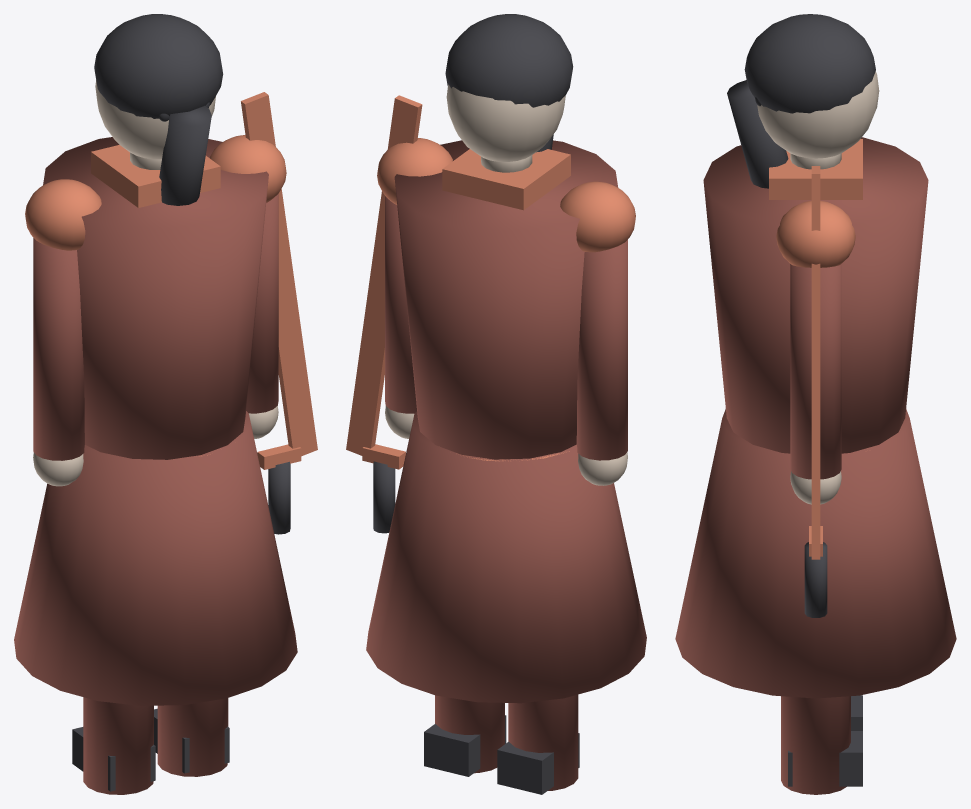
Rendered from xiao-lie.glb.
3 views of the same model, side by side, from view 1: azimuth 30°, elevation 25°; view 2: azimuth 150°, elevation 25°; view 3: azimuth 270°, elevation 25° (orthographic).
Parts seen in each view (by area): view 1: xiao-lie_robe, xiao-lie_torso, xiao-lie_hair, xiao-lie_arm-0.235, xiao-lie_blade, xiao-lie_leg-0.09, xiao-lie_arm0.235, xiao-lie_leg0.09, xiao-lie_shoulder-0.22, xiao-lie_pigtail, xiao-lie_collar, xiao-lie_head (+7 smaller); view 2: xiao-lie_robe, xiao-lie_torso, xiao-lie_arm-0.235, xiao-lie_hair, xiao-lie_blade, xiao-lie_head, xiao-lie_collar, xiao-lie_arm0.235, xiao-lie_leg-0.09, xiao-lie_shoulder-0.22, xiao-lie_leg0.09, xiao-lie_shoulder0.22 (+7 smaller); view 3: xiao-lie_robe, xiao-lie_torso, xiao-lie_hair, xiao-lie_arm0.235, xiao-lie_leg0.09, xiao-lie_head, xiao-lie_shoulder0.22, xiao-lie_blade, xiao-lie_collar, xiao-lie_pigtail, xiao-lie_grip, xiao-lie_boot0.09 (+2 smaller).
Part boxes in pixels (x1,y1,x2,y2): xiao-lie_robe: (14, 411, 297, 705); xiao-lie_torso: (43, 137, 268, 459); xiao-lie_hair: (94, 14, 223, 118); xiao-lie_arm-0.235: (33, 238, 84, 460); xiao-lie_blade: (241, 92, 317, 456); xiao-lie_leg-0.09: (83, 697, 153, 794); xiao-lie_arm0.235: (246, 194, 278, 413); xiao-lie_leg0.09: (157, 698, 228, 776); xiao-lie_shoulder-0.22: (25, 179, 101, 250); xiao-lie_pigtail: (159, 105, 211, 205); xiao-lie_collar: (91, 145, 220, 207); xiao-lie_head: (95, 80, 215, 159); xiao-lie_robe: (366, 411, 646, 703); xiao-lie_torso: (394, 140, 618, 459); xiao-lie_arm-0.235: (576, 239, 627, 460); xiao-lie_hair: (445, 14, 573, 107); xiao-lie_blade: (346, 95, 422, 455); xiao-lie_head: (446, 84, 565, 161); xiao-lie_collar: (442, 149, 570, 210); xiao-lie_arm0.235: (385, 196, 416, 413); xiao-lie_leg-0.09: (508, 694, 578, 790); xiao-lie_shoulder-0.22: (560, 181, 635, 252); xiao-lie_leg0.09: (435, 695, 504, 773); xiao-lie_shoulder0.22: (377, 138, 452, 204); xiao-lie_robe: (675, 409, 956, 698); xiao-lie_torso: (703, 137, 928, 453); xiao-lie_hair: (744, 14, 875, 113); xiao-lie_arm0.235: (790, 264, 841, 479); xiao-lie_leg0.09: (781, 696, 850, 794); xiao-lie_head: (757, 71, 879, 158); xiao-lie_shoulder0.22: (776, 200, 855, 267); xiao-lie_blade: (811, 166, 820, 559); xiao-lie_collar: (769, 139, 862, 199); xiao-lie_pigtail: (727, 80, 788, 188); xiao-lie_grip: (804, 542, 827, 617); xiao-lie_boot0.09: (788, 731, 862, 786).
Bounding box in the file's own units: 0.6936 × 1.74 × 0.6.
